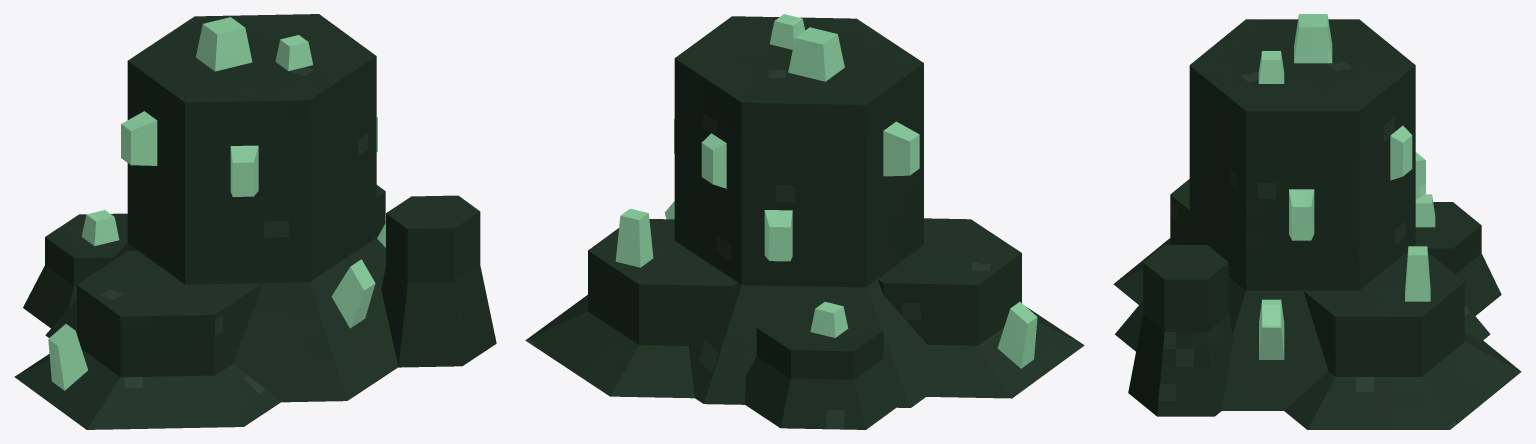
Rendered from item_artifactDew.glb.
3 renders of one model, left to right at view 1: azimuth 30°, elevation 25°; view 2: azimuth 150°, elevation 25°; view 3: azimuth 270°, elevation 25°, orthographic.
Visible parts, largest first — view 1: Donor_space-rock_crystals_0; view 2: Donor_space-rock_crystals_0; view 3: Donor_space-rock_crystals_0.
Boxes of the visible parts, x1=… form: Donor_space-rock_crystals_0: x1=14, y1=14, x2=496, y2=429; Donor_space-rock_crystals_0: x1=525, y1=14, x2=1084, y2=429; Donor_space-rock_crystals_0: x1=1113, y1=14, x2=1521, y2=429.
Bounding box in the file's own units: 0.26 × 0.18 × 0.22.
2 materials, 2 textured.
